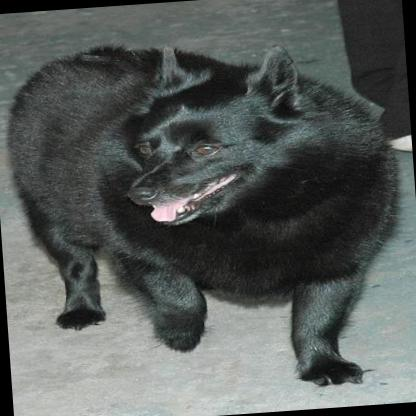schipperke: (0, 20, 414, 407)
